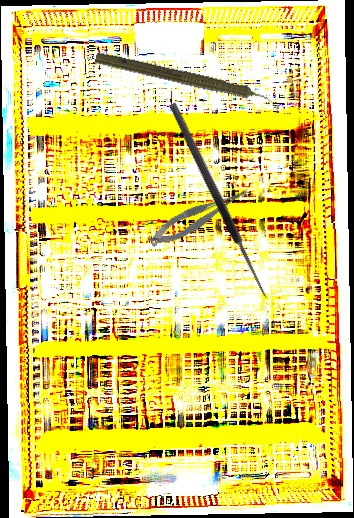Handpiece: (92, 48, 284, 114)
Hook Surgical: (167, 97, 281, 301)
Micro Scissor: (142, 184, 256, 251)
